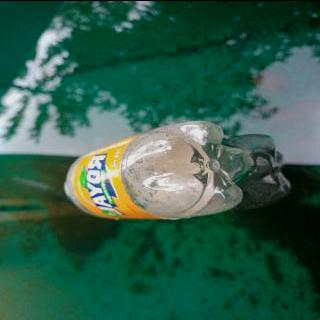bottle: (61, 119, 248, 221)
